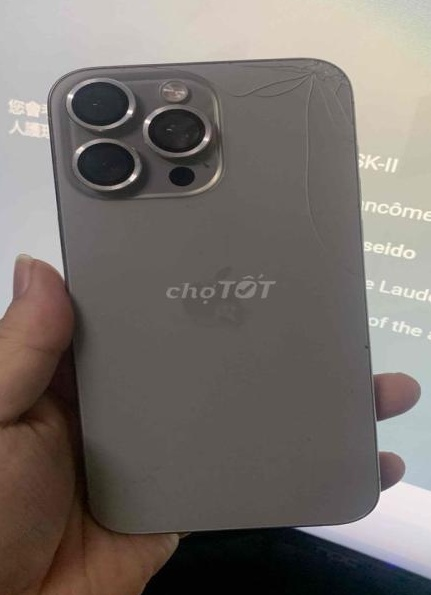physical_damage: (302, 229, 369, 290), (282, 57, 361, 91), (288, 90, 359, 112), (296, 185, 331, 229), (328, 111, 364, 149), (295, 143, 326, 187), (226, 79, 280, 103), (291, 110, 325, 143), (228, 59, 279, 79)
